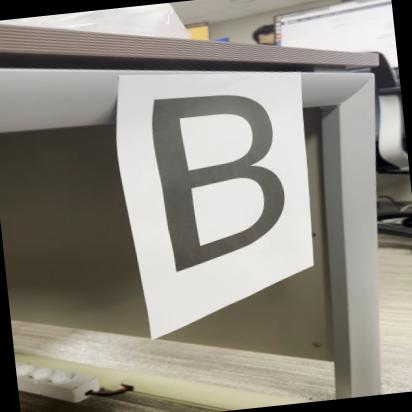seat: (135, 84, 298, 294)
